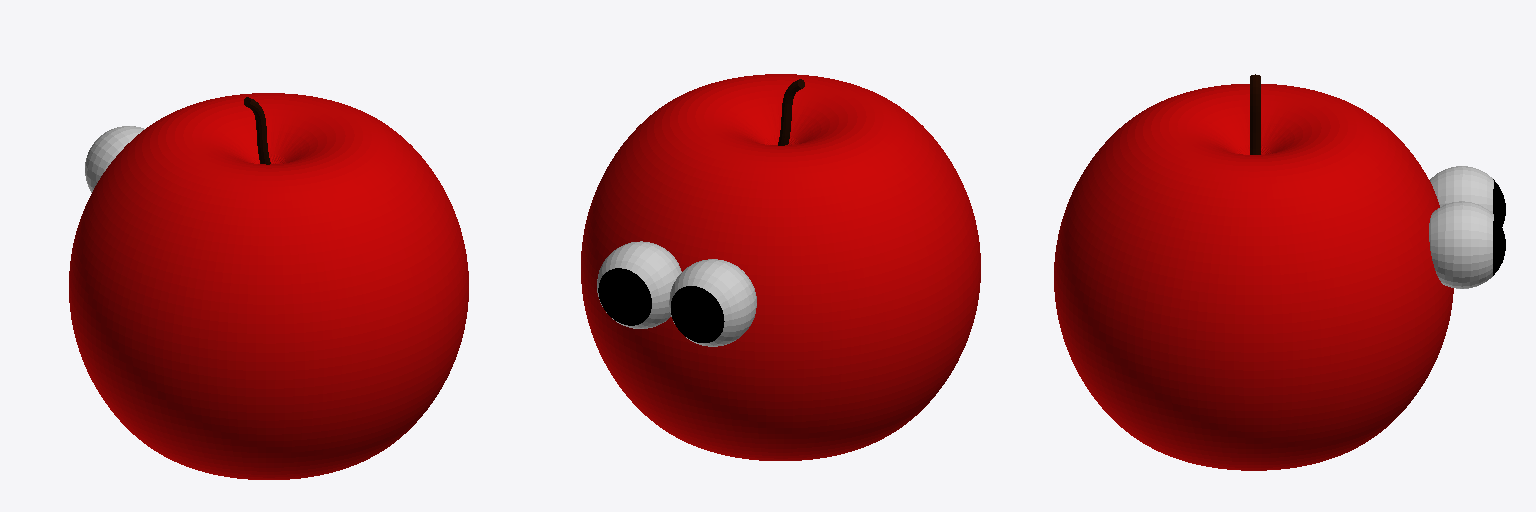
Rendered from apple.obj.
3 renders of one model, left to right at view 1: azimuth 30°, elevation 25°; view 2: azimuth 150°, elevation 25°; view 3: azimuth 270°, elevation 25°, orthographic.
Parts seen in each view (by area): view 1: 球, 球.001, ベジエカーブ; view 2: 球, 球.001, ベジエカーブ; view 3: 球, 球.001, ベジエカーブ.
Part boxes in pixels (bbox=[...]): 球: bbox=[69, 93, 468, 479]; 球.001: bbox=[85, 126, 144, 192]; ベジエカーブ: bbox=[244, 97, 270, 164]; 球: bbox=[581, 74, 980, 460]; 球.001: bbox=[597, 241, 756, 346]; ベジエカーブ: bbox=[778, 79, 804, 145]; 球: bbox=[1054, 84, 1453, 470]; 球.001: bbox=[1429, 166, 1505, 288]; ベジエカーブ: bbox=[1250, 74, 1260, 154].
Bounding box in the file's own units: 0.5171 × 0.4909 × 0.5841.